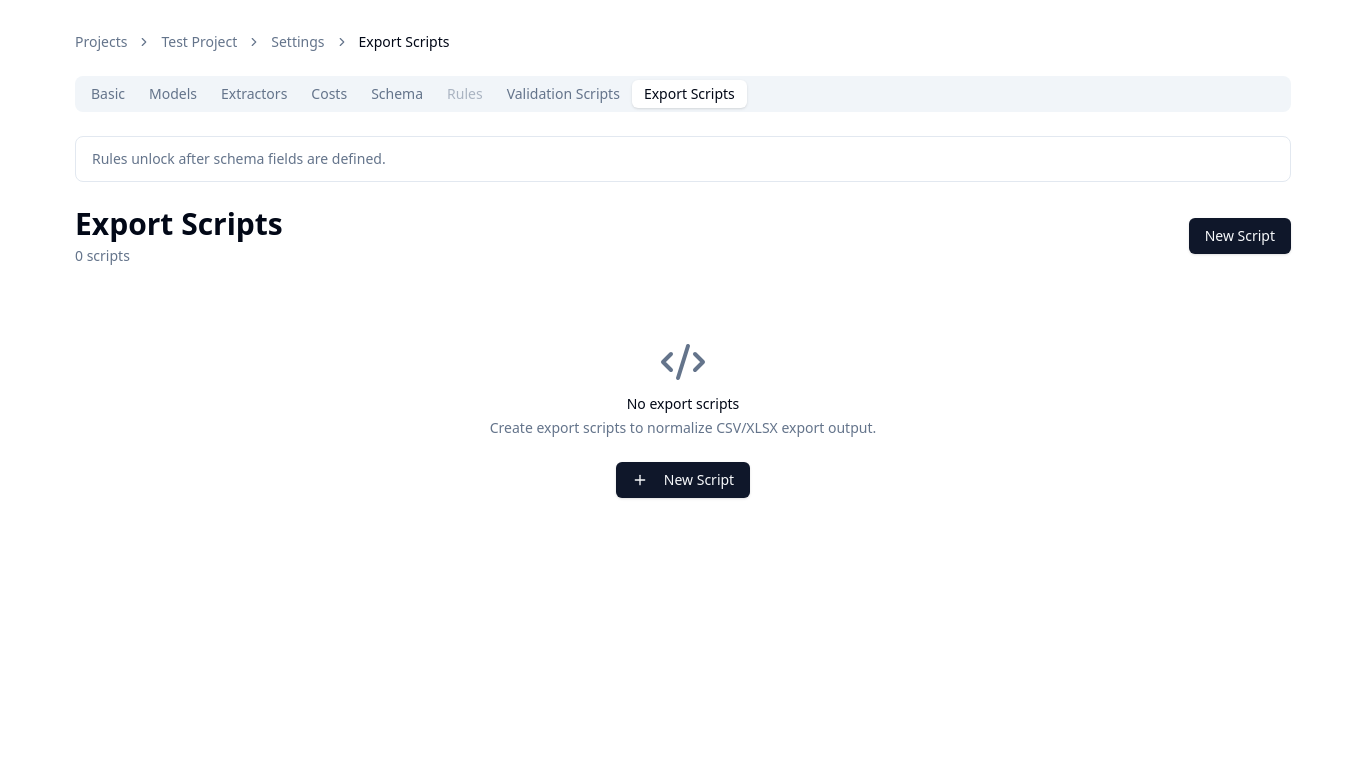
Test case: ProjectSettingsExportScriptsPage › opens create dialog from empty state
Expected: the heading "Export Scripts" is shown, x1=75 y1=206 x2=283 y2=242
Click the button "New Script" in the row of "0 scripts": click(1240, 236) x1=1189 y1=218 x2=1291 y2=254
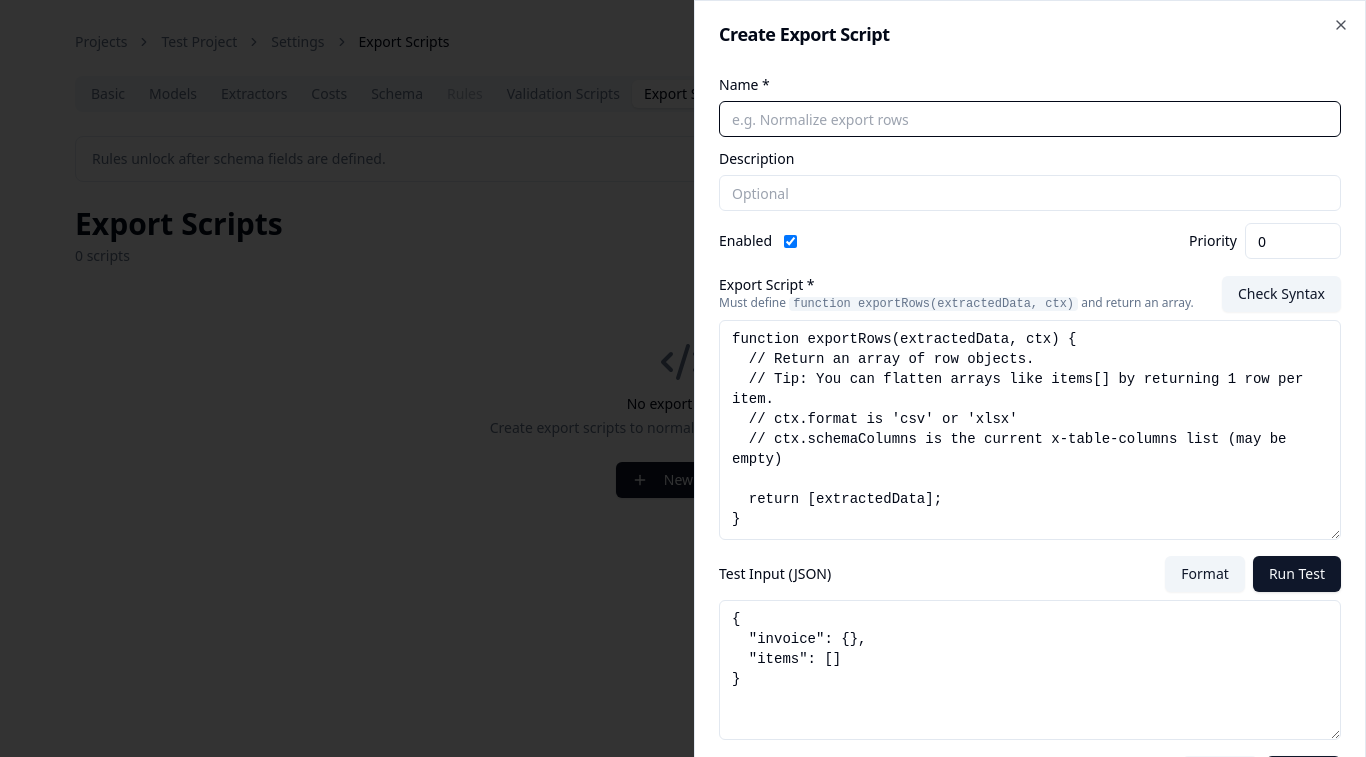
Expected: the heading "Create Export Script" is shown, x1=719 y1=22 x2=890 y2=46
